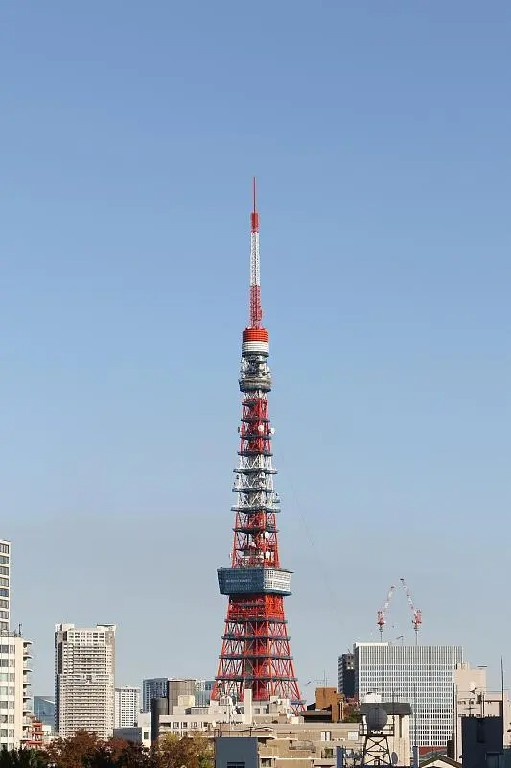Tokyo: (208, 174, 303, 713)
